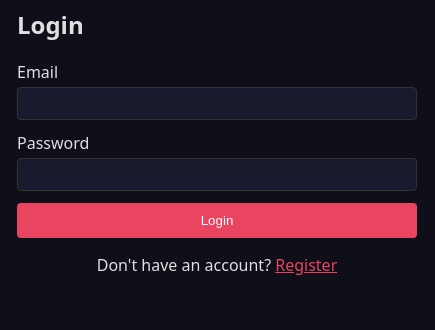
Login Page › form submission › should clear previous error on new submit attempt
Note: First attempt — fails
Type "test@test.com" into the field labelled "Email". click: (217, 103)
box: [17,87,417,120]
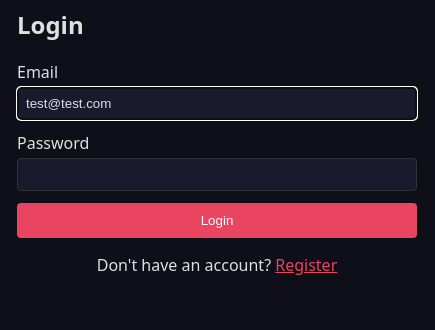
Type "wrong" into the password field labelled "Password". click: (217, 174)
box: [17,158,417,191]
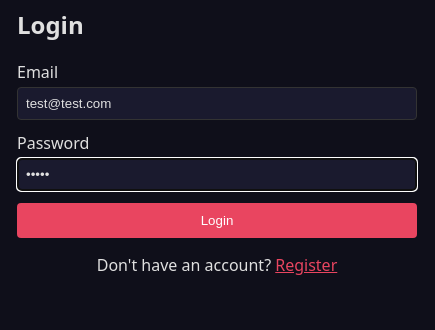
Click the button "Login". click: (217, 220)
box: [17,203,417,238]
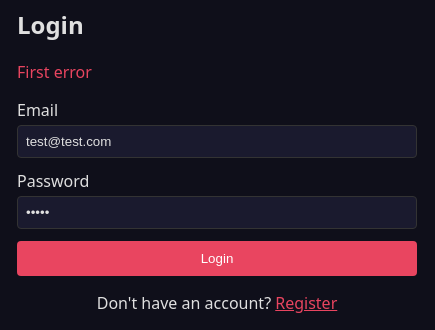
Now the text "First error" is shown, box [17,61,92,83]
Note: Second attempt — succeeds, error should clear
Click the button "Login". click: (217, 258)
box: [17,241,417,276]
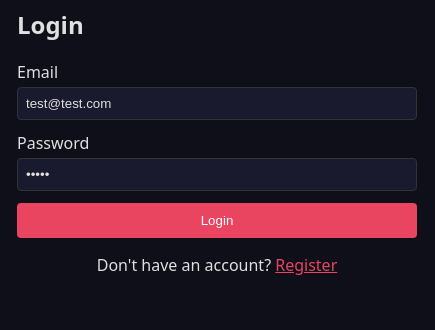
Now the text "First error" is gone
